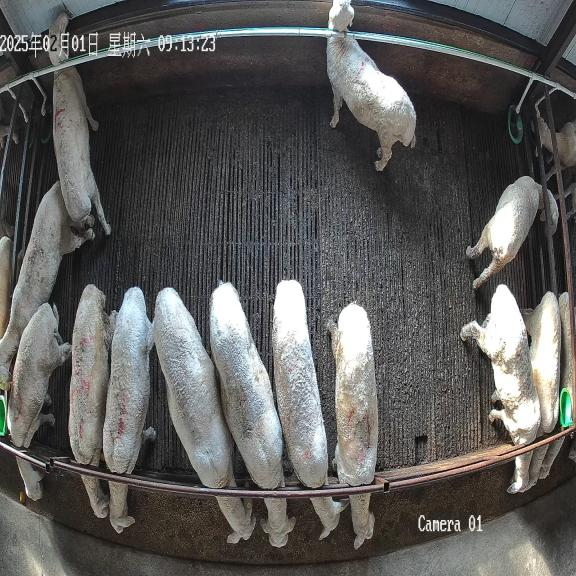eating: (153, 288, 256, 544), (210, 282, 295, 548), (103, 287, 156, 533), (7, 303, 71, 500), (68, 284, 114, 518)
stand: (0, 182, 94, 368), (326, 0, 416, 171), (48, 12, 110, 234), (466, 176, 558, 289)
